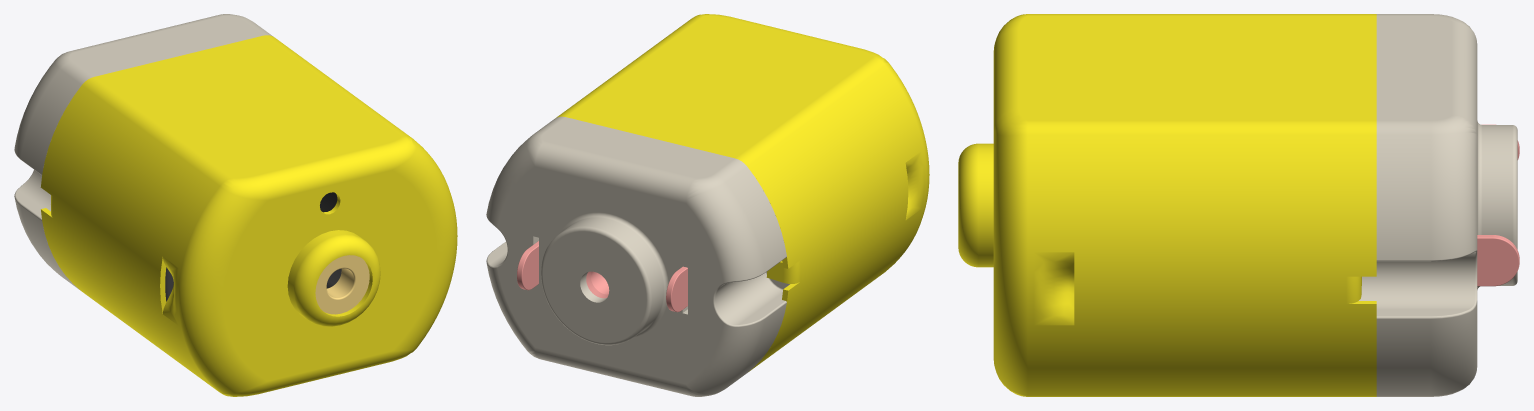
Rendered from DC motor assembly.fbx.
3 renders of one model, left to right at view 1: azimuth 30°, elevation 25°; view 2: azimuth 150°, elevation 25°; view 3: azimuth 270°, elevation 25°, orthographic. The views are drawn at different scales.
Parts seen in each view (by area): view 1: part 1 housing-1, part 2 cover-1, part 7 bushing 2 shaft fixture-2, part 4 magnet-4; view 2: part 2 cover-1, part 1 housing-1, part 3 end contact-2, part 3 end contact-1, part 6 bushing 1-1; view 3: part 1 housing-1, part 2 cover-1, part 3 end contact-2.
Boxes of the visible parts, <box> form: part 1 housing-1: <box>40,35,457,396</box>; part 2 cover-1: <box>14,14,273,290</box>; part 7 bushing 2 shaft fixture-2: <box>315,255,369,314</box>; part 4 magnet-4: <box>320,192,341,288</box>; part 2 cover-1: <box>486,116,789,396</box>; part 1 housing-1: <box>555,14,929,371</box>; part 3 end contact-2: <box>517,241,538,290</box>; part 3 end contact-1: <box>666,266,687,312</box>; part 6 bushing 1-1: <box>586,271,609,298</box>; part 1 housing-1: <box>958,14,1376,396</box>; part 2 cover-1: <box>1359,14,1517,396</box>; part 3 end contact-2: <box>1477,235,1519,286</box>.
Bounding box in the file's own units: 8.9 × 6.67 × 12.39.
